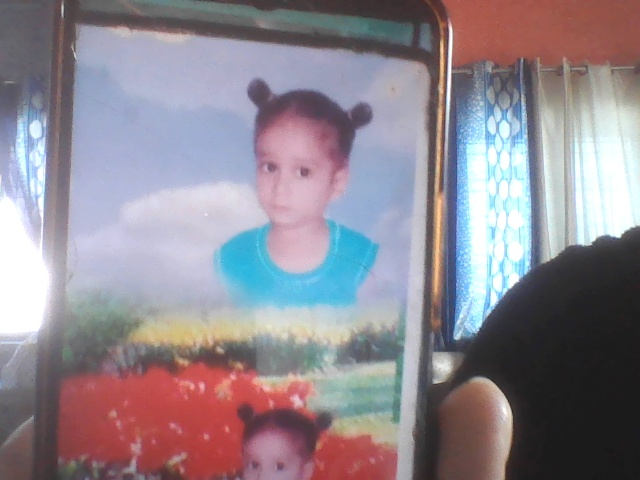fake: (242, 84, 354, 243)
